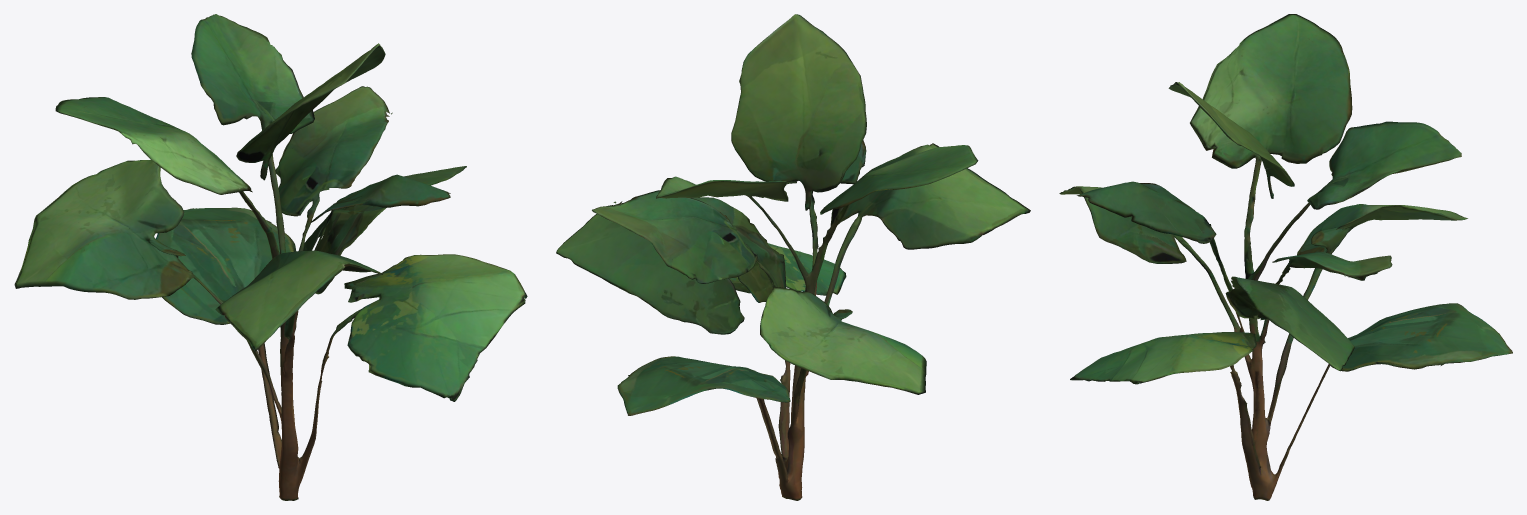
File: low_poly_plant_0502171950_refine.glb
The picture shows the model from 3 angles, left to right: view 1: azimuth 30°, elevation 25°; view 2: azimuth 150°, elevation 25°; view 3: azimuth 270°, elevation 25°; orthographic projection. The views are drawn at different scales.
Size of the model in its own units: 1.88 by 2 by 1.89.
1 material, 1 textured.
